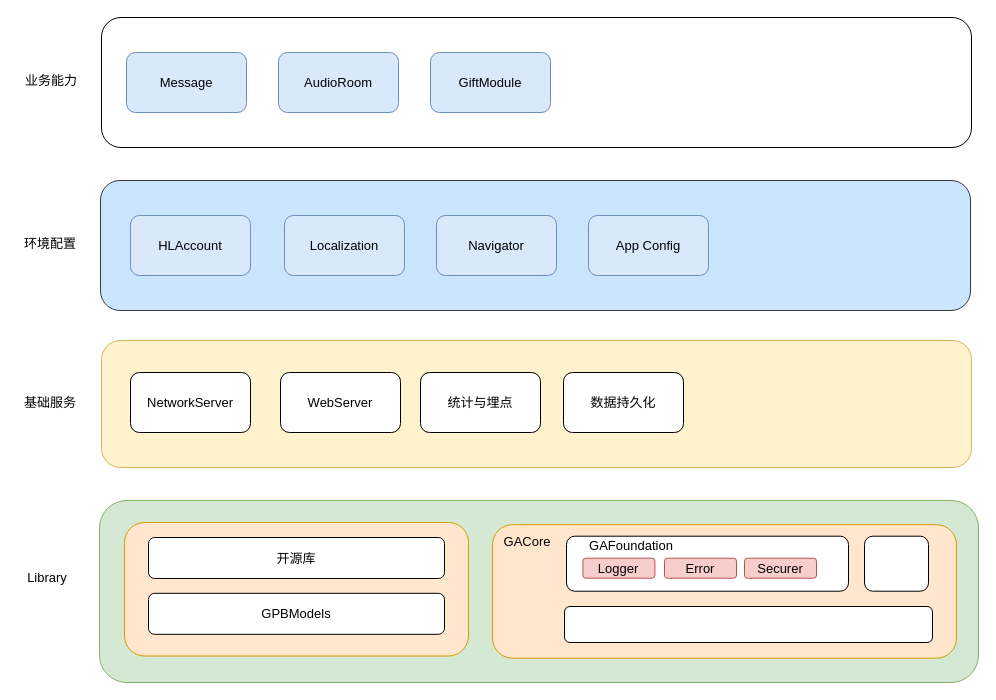
The diagram is 996 pixels wide and 700 high, and some of its shapes have lost their labels. Here are the shapes that lost their labels. From the top down, the centre of each, then its label:
(x=896, y=563): GAUI
(x=748, y=624): Extension
